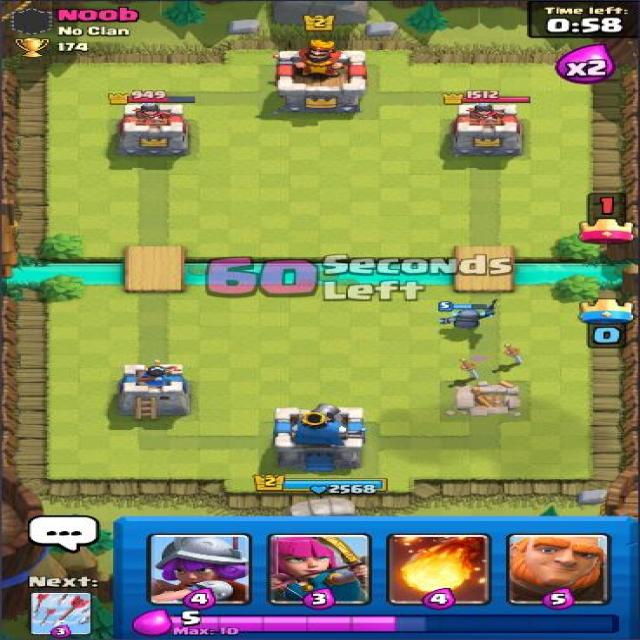Player-MiniPEKKA: (435, 296, 504, 333)
